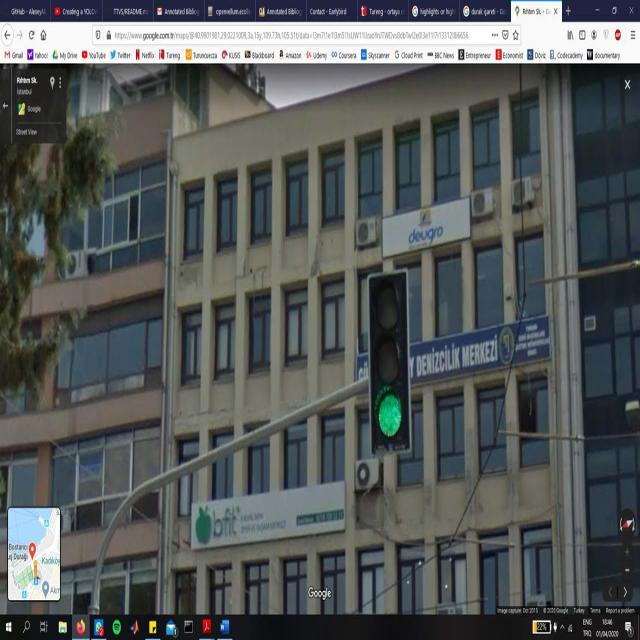yesil: (370, 276, 410, 448)
